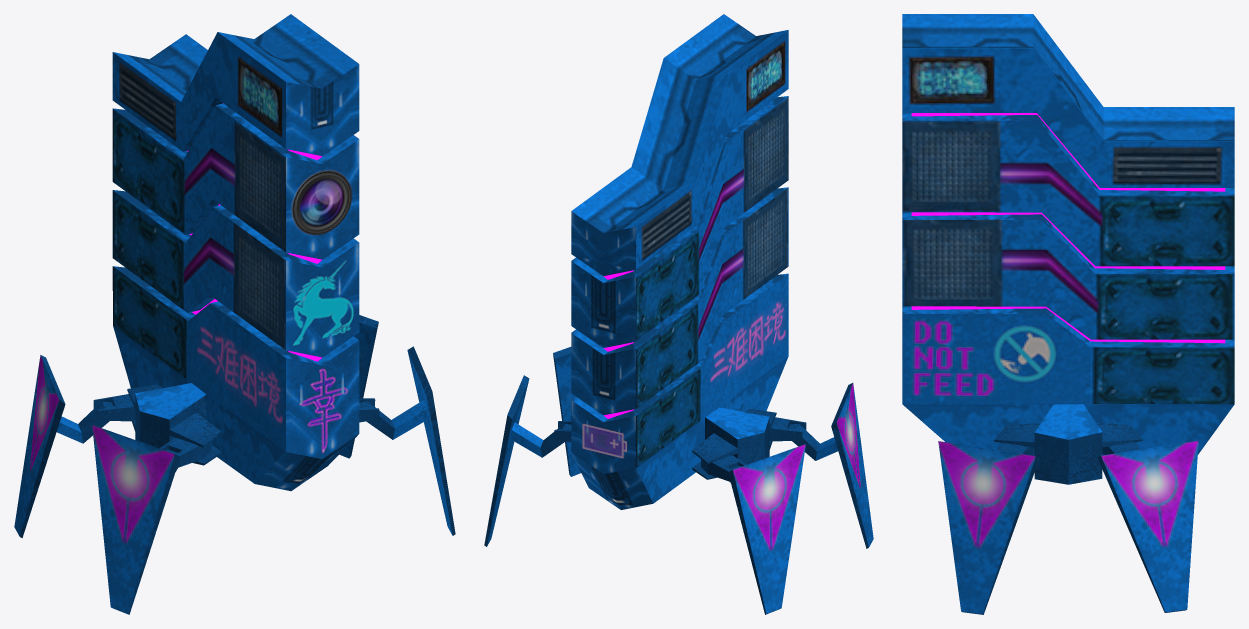
The model's file is Etherium_Horse.glb.
The picture shows the model from 3 angles, left to right: view 1: azimuth 30°, elevation 25°; view 2: azimuth 150°, elevation 25°; view 3: azimuth 270°, elevation 25°; orthographic projection. The views are drawn at different scales.
Visible parts, largest first — view 1: Horse; view 2: Horse; view 3: Horse.
Part boxes in pixels (bbox=[...]): Horse: bbox=[14, 14, 455, 614]; Horse: bbox=[484, 14, 873, 614]; Horse: bbox=[902, 14, 1234, 614].
Size of the model in its own units: 0.9028 by 1.34 by 0.7968.
2 materials, 1 textured.
